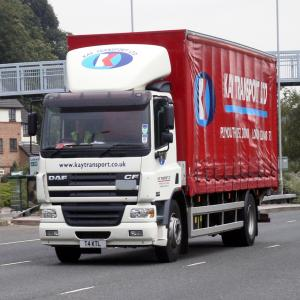Vehicle-registration-plate: (79, 240, 109, 249)
